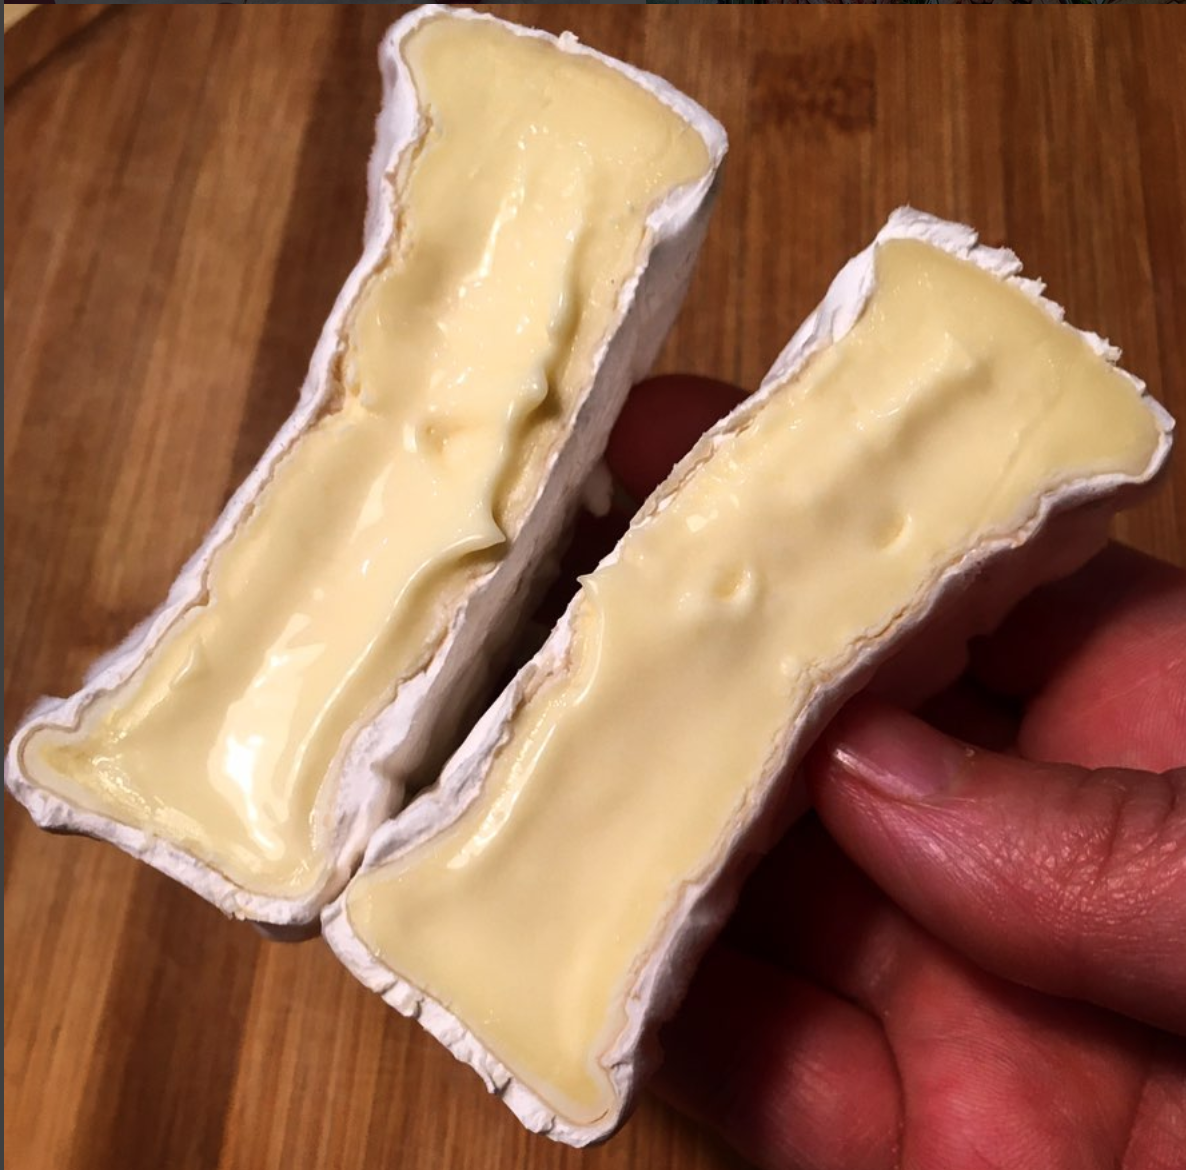camembert: (322, 204, 1179, 1154), (13, 3, 734, 930)
